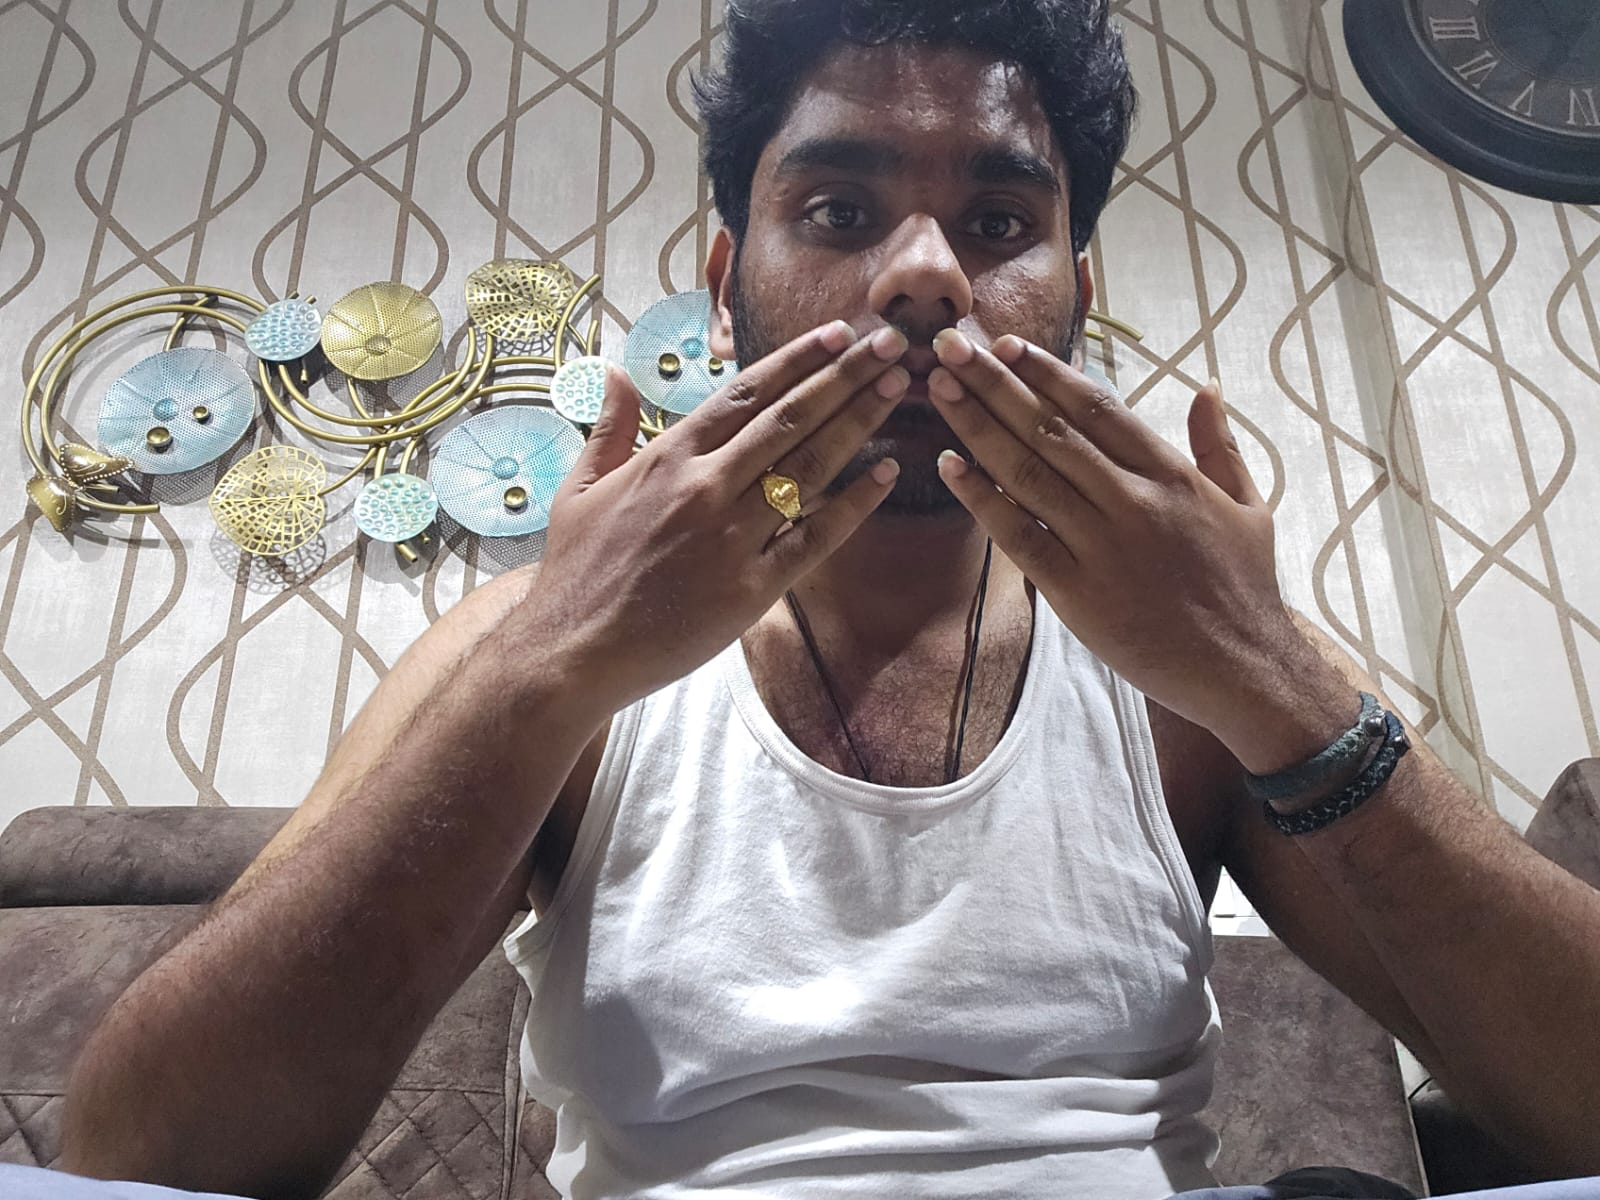thank you: (535, 319, 1276, 712)
